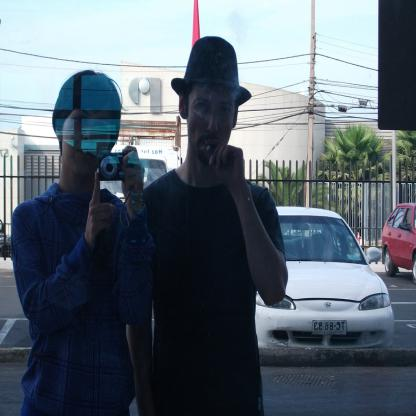Car: (255, 211, 394, 349), (380, 202, 416, 281)
